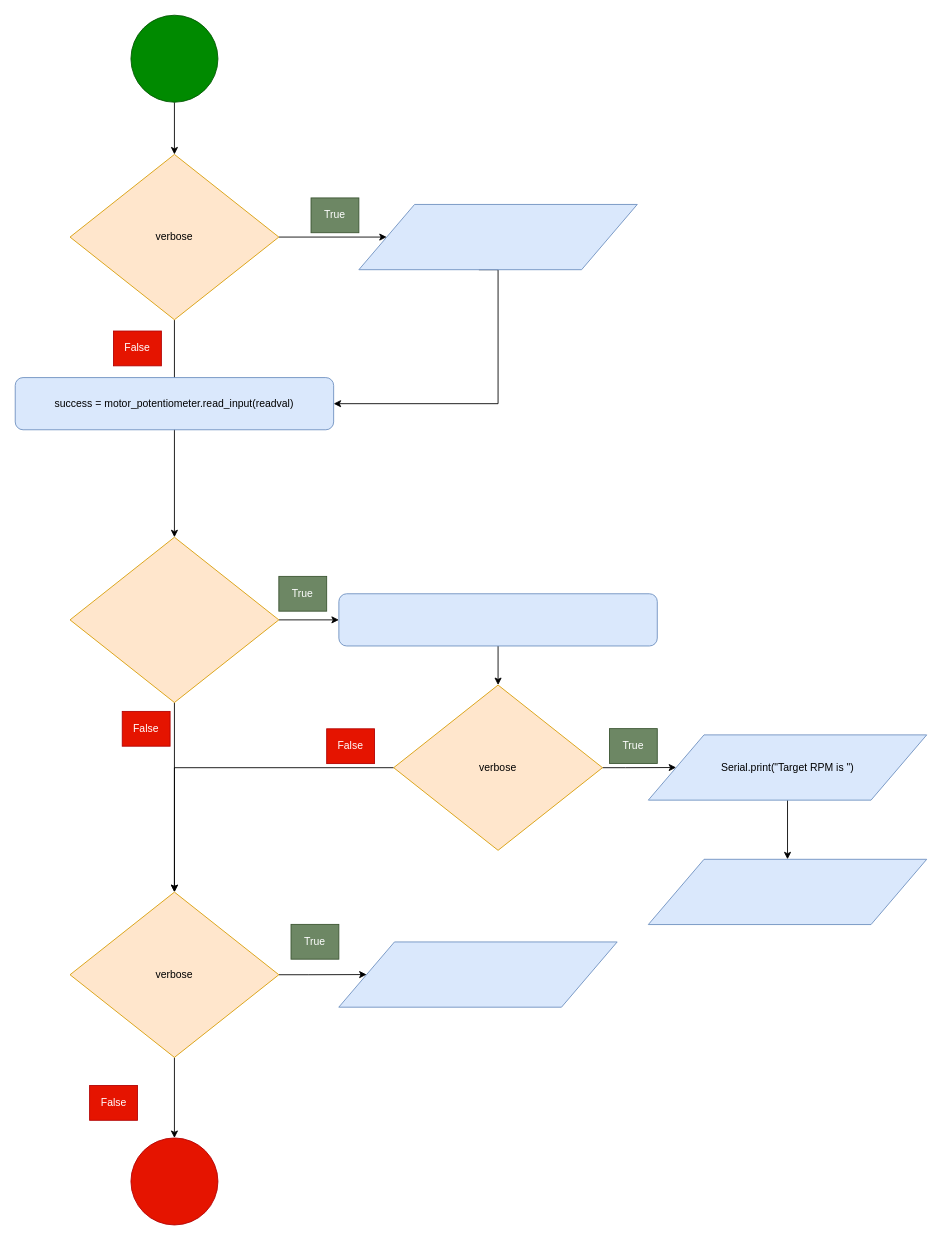
The diagram is 942 pixels wide and 1241 high, and some of its shapes have lost their labels. Here are the shapes that lost their labels. From the top down, the centre of each, then its label:
the point at 174,58: Start
the point at 497,237: Serial.println("Checking Target RPM...")
the point at 174,619: success
the point at 497,619: target_RPM = map(readval, 0, 1023, min_RPM, max_RPM)
the point at 787,891: Serial.println(target_RPM)
the point at 477,974: Serial.println("")
the point at 174,1181: End
